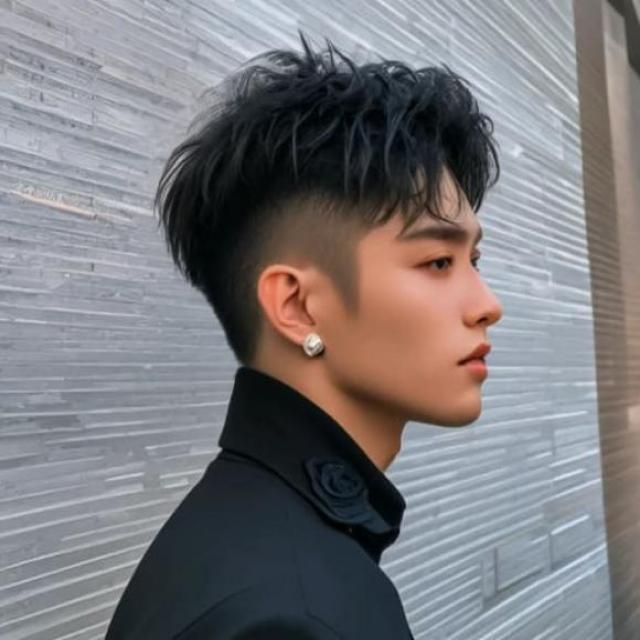Face and Hair: (142, 22, 510, 444)
